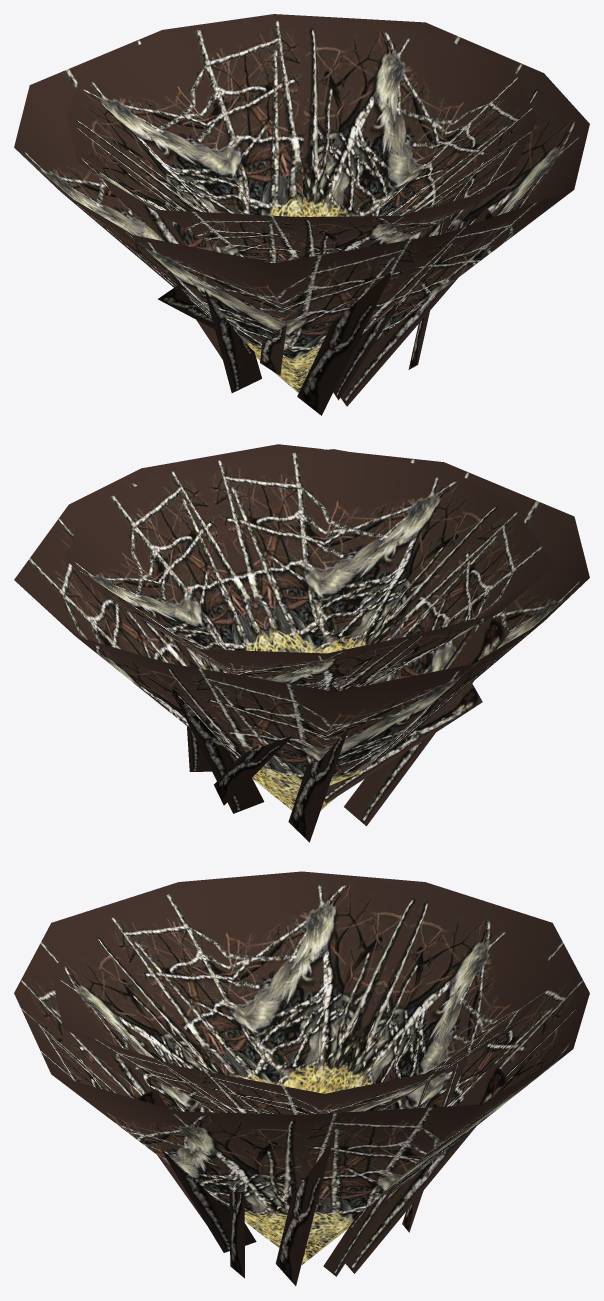
Rendered from poi_all_lair_nest_small_l2.fbx.
3 views of the same model, one above another, from view 1: azimuth 30°, elevation 25°; view 2: azimuth 150°, elevation 25°; view 3: azimuth 270°, elevation 25° (orthographic). The views are drawn at different scales.
Parts seen in each view (by area): view 1: mesh_node; view 2: mesh_node; view 3: mesh_node.
Part boxes in pixels (bbox=[...]): mesh_node: bbox=[14, 14, 589, 415]; mesh_node: bbox=[14, 444, 589, 842]; mesh_node: bbox=[14, 871, 589, 1285].
Size of the model in its own units: 2.82 by 1.55 by 2.82.
